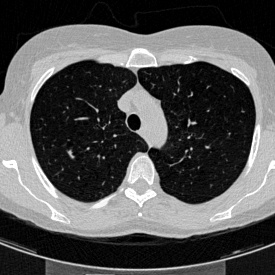PN: (66, 150, 74, 158)
